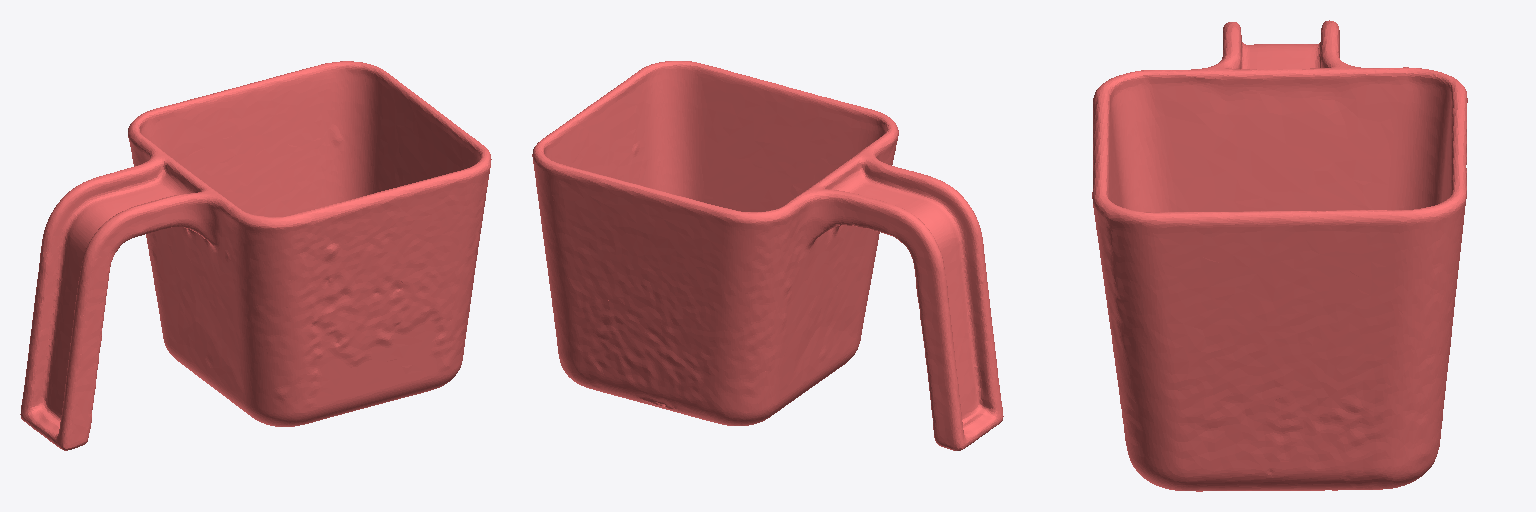
The robot description file, URDF, robot "model.urdf":
<robot name="model.urdf">
    <link name="baseLink">
        <contact>
            <lateral_friction value="0.42"/>
            <rolling_friction value="1"/>
            <spinning_friction value="1"/>
            <contact_cfm value="0.0"/>
            <contact_erp value="1.0"/>
        </contact>
        <inertial>
            <!-- modify back to below for other tasks like surface traversal 
            <origin rpy="0 0 0" xyz="0 0.0 -0.04"/>
            <mass value="1.5"/> -->
            <origin rpy="0 0 1.6" xyz="0.02 0.0 0"/>
            <mass value="0.6"/>
            <inertia ixx="1e-3" ixy="0" ixz="0" iyy="1e-3" iyz="0" izz="1e-3"/>
        </inertial>
        <visual>
            <geometry>
                <mesh filename="nontextured.stl" scale="1 1 1"/>
            </geometry>
            <material name="black">
                <color rgba="1.0 0.5 0.5 1"/>
            </material>
        </visual>
        <collision>
            <geometry>
                <mesh filename="nontextured.stl" scale="1 1 1"/>
            </geometry>
        </collision>
    </link>
</robot>

--- Facts derived from the render (not from the file) ---
Views: 3 orthographic renders of the robot side by side, from view 1: azimuth 30°, elevation 25°; view 2: azimuth 150°, elevation 25°; view 3: azimuth 270°, elevation 25°.
Model model.urdf with 1 links and 0 joints (none), rooted at baseLink, posed every joint at zero.
Links seen in each view (by area): view 1: baseLink; view 2: baseLink; view 3: baseLink.
Link boxes in pixels (left/top/right/bottom): baseLink: left=20, top=61, right=491, bottom=450; baseLink: left=532, top=61, right=1003, bottom=450; baseLink: left=1092, top=20, right=1467, bottom=491.
Bounding box of the posed robot: 0.1496 × 0.0968 × 0.0872 m (x, y, z).
Meshes: 1 distinct files referenced, 1 mesh visuals loaded (1 binary STL).